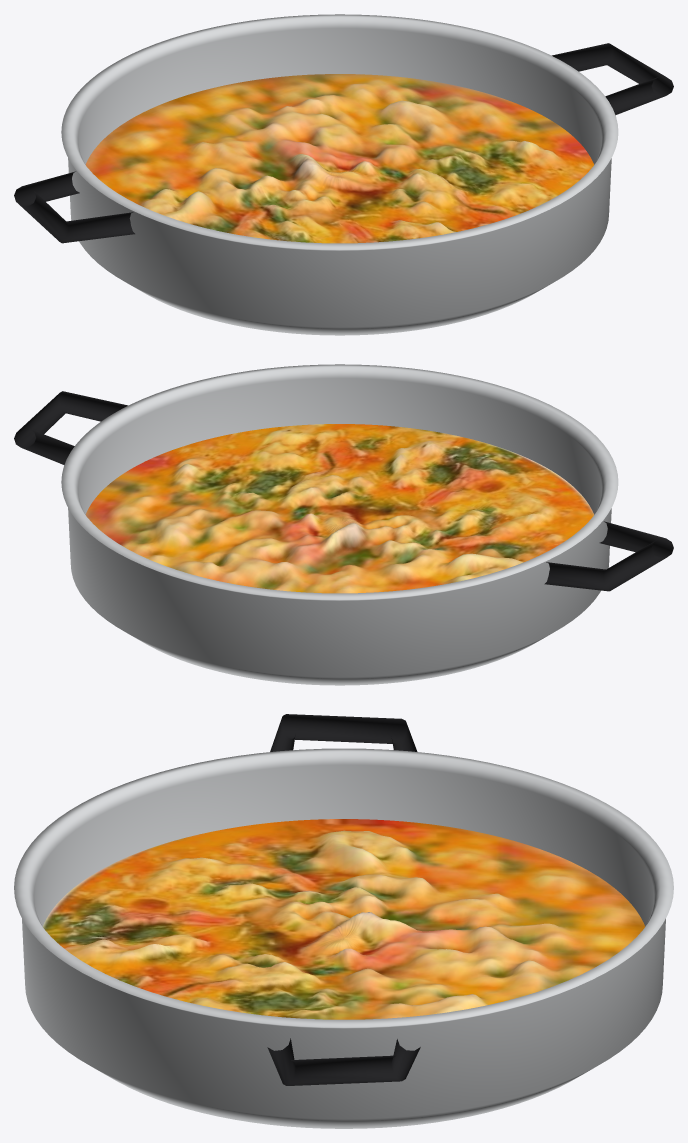
Rendered from teste-camarao-na-panela.glb.
3 renders of one model, top to bottom at view 1: azimuth 30°, elevation 25°; view 2: azimuth 150°, elevation 25°; view 3: azimuth 270°, elevation 25°, orthographic. The views are drawn at different scales.
Visible parts, largest first — view 1: teste-camarao-na-panela; view 2: teste-camarao-na-panela; view 3: teste-camarao-na-panela.
Boxes of the visible parts, left/top/right/bottom form: teste-camarao-na-panela: left=14, top=14, right=673, bottom=335; teste-camarao-na-panela: left=14, top=364, right=673, bottom=685; teste-camarao-na-panela: left=14, top=714, right=673, bottom=1128.
Size of the model in its own units: 0.38 by 0.061 by 0.298.
3 materials, 1 textured.
